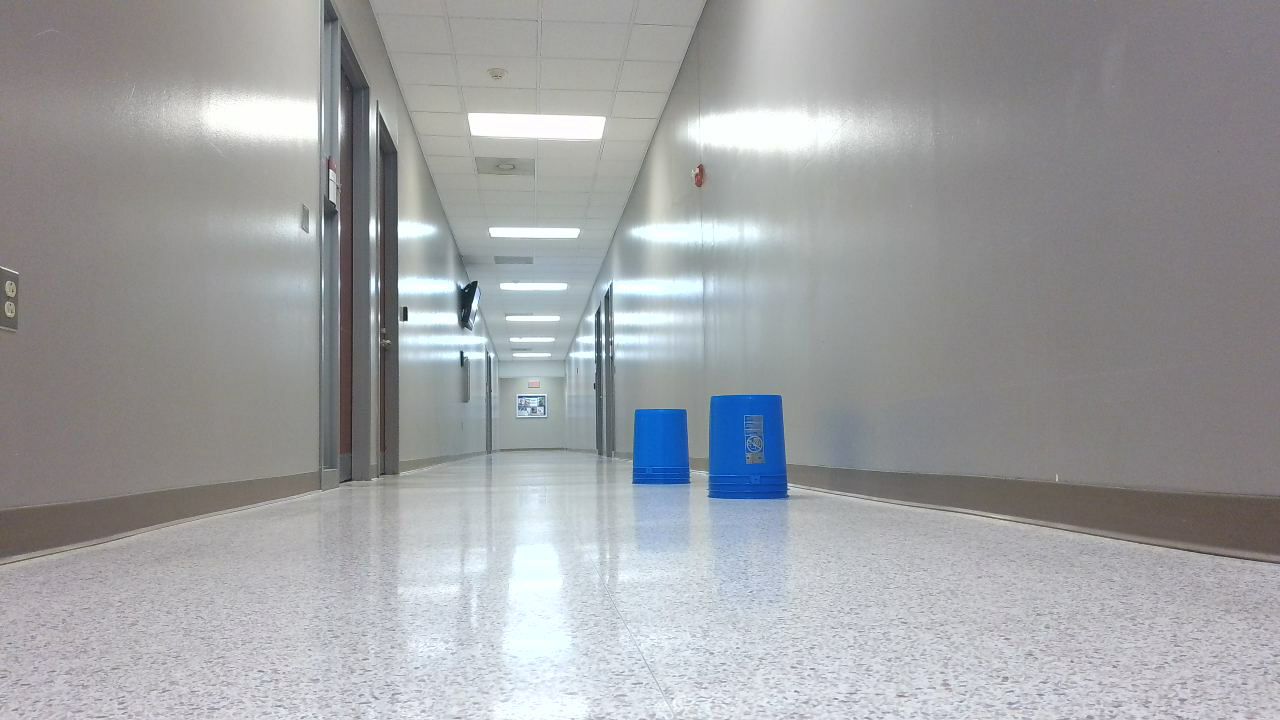blue_bucket: (711, 397, 796, 507), (635, 411, 698, 492)
